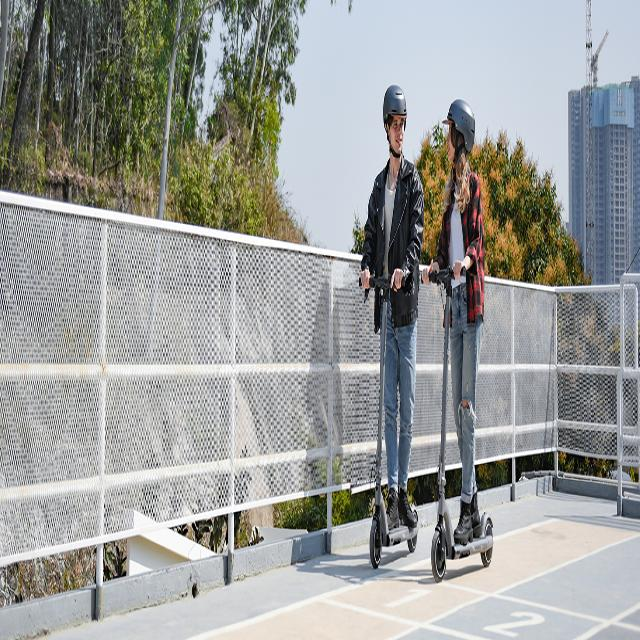helmet: (421, 54, 501, 587), (350, 61, 428, 570)
